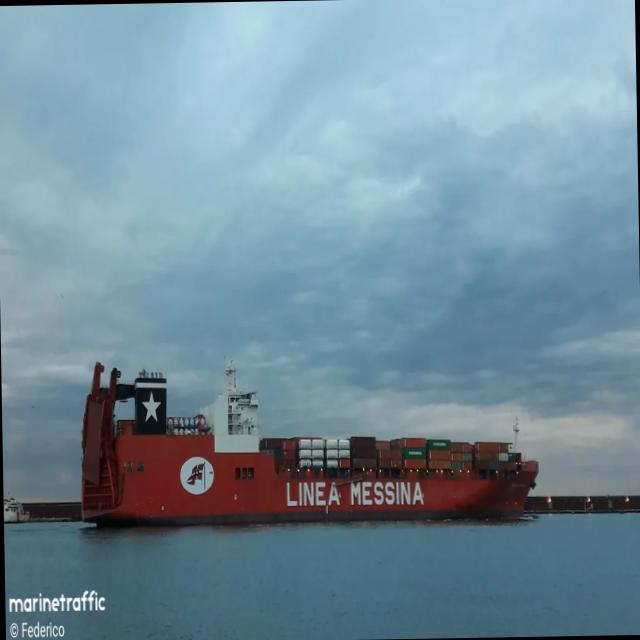Cargo: (81, 361, 537, 525)
